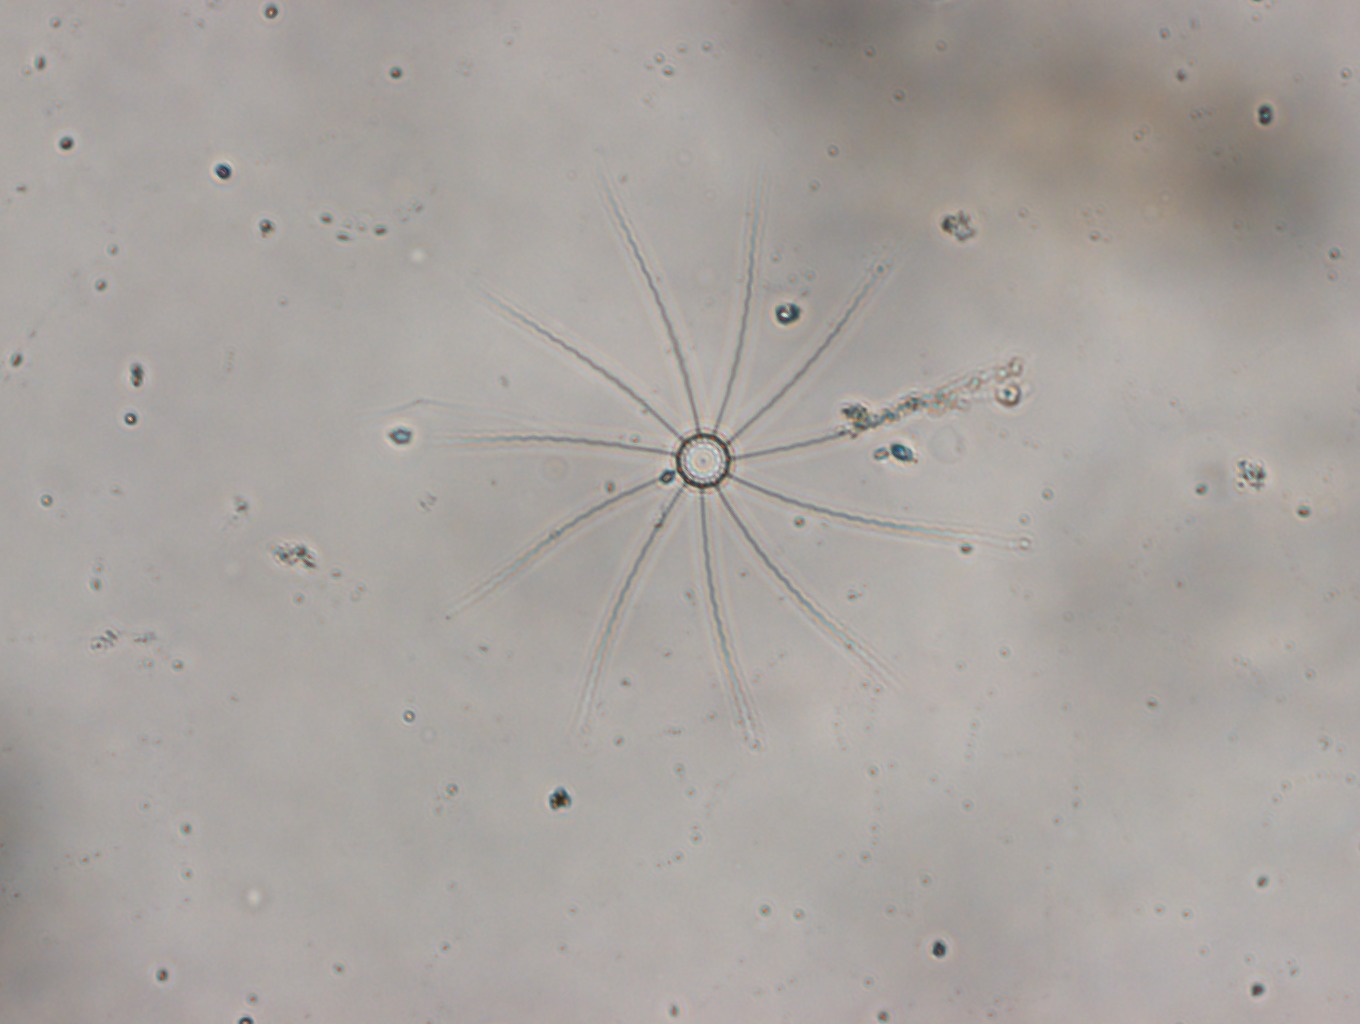bacteriastrum: (429, 176, 994, 748)
